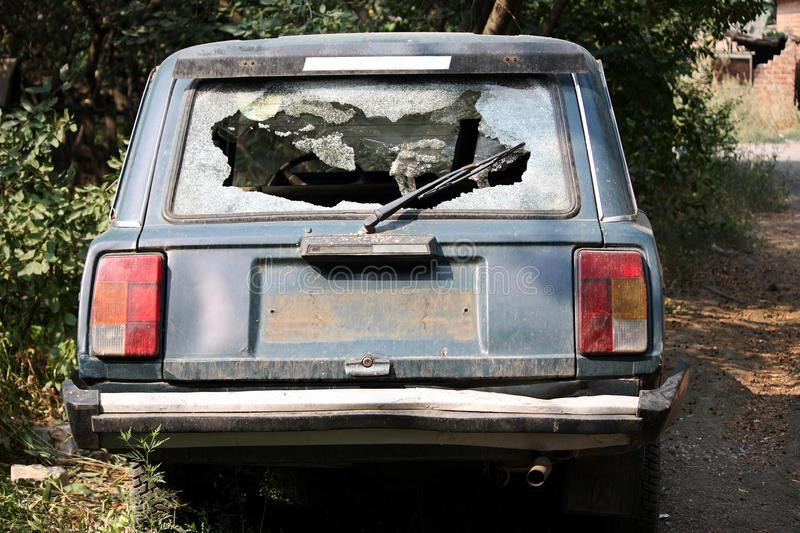Rear-windscreen-Damage: (129, 56, 619, 270)
